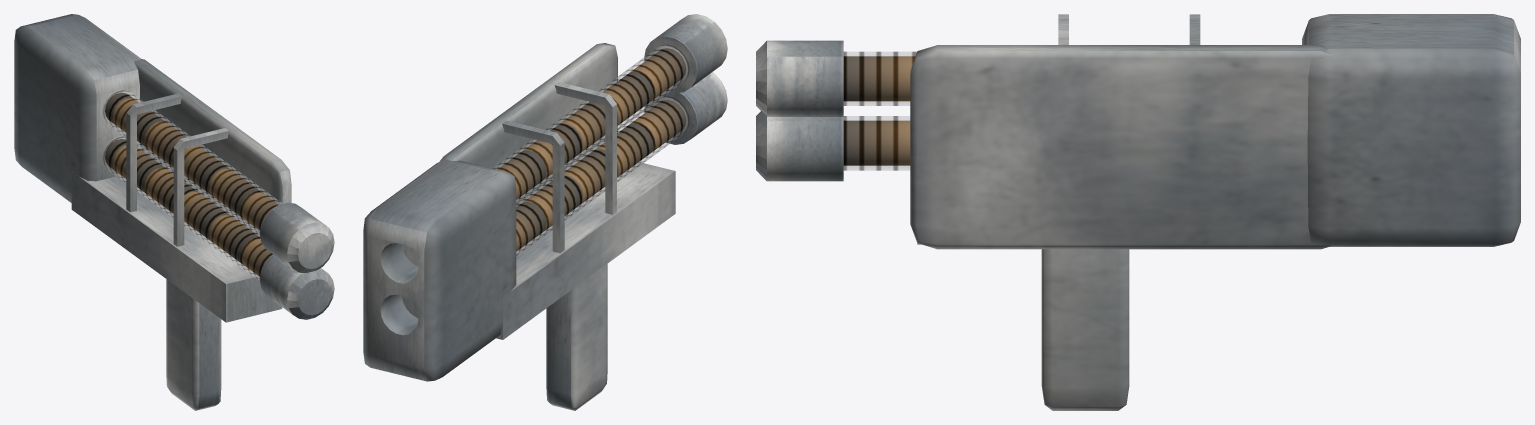
The model's file is gun3.FBX.
3 views of the same model, side by side, from view 1: azimuth 30°, elevation 25°; view 2: azimuth 150°, elevation 25°; view 3: azimuth 270°, elevation 25° (orthographic). The views are drawn at different scales.
Visible parts, largest first — view 1: gun3; view 2: gun3; view 3: gun3.
Boxes of the visible parts, bbox=[...] form: gun3: bbox=[14, 14, 334, 410]; gun3: bbox=[363, 14, 727, 410]; gun3: bbox=[756, 14, 1520, 410].
Bounding box in the file's own units: 20.01 × 140 × 76.
